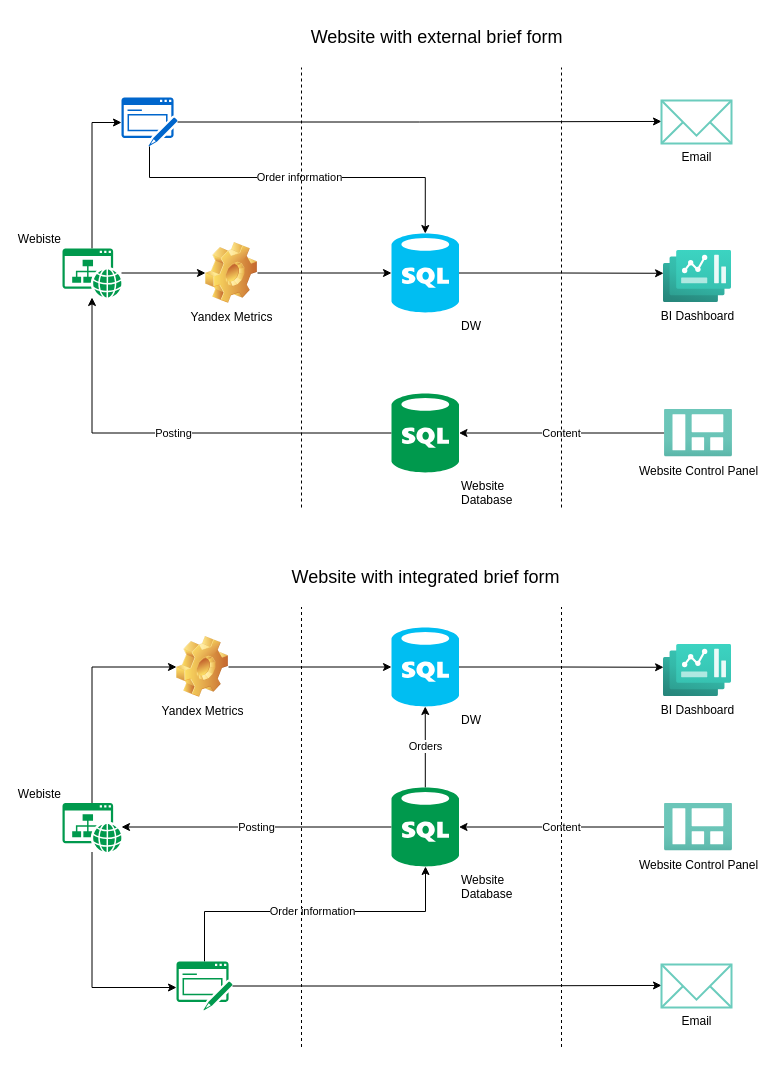
Some shapes in this 775 by 1065 pixel diagram are drawn without their labels. The centre of each missing label's shape, as x and y in pixels:
External Brief Form: (149,121)
Integrated Brief Form: (204,985)
